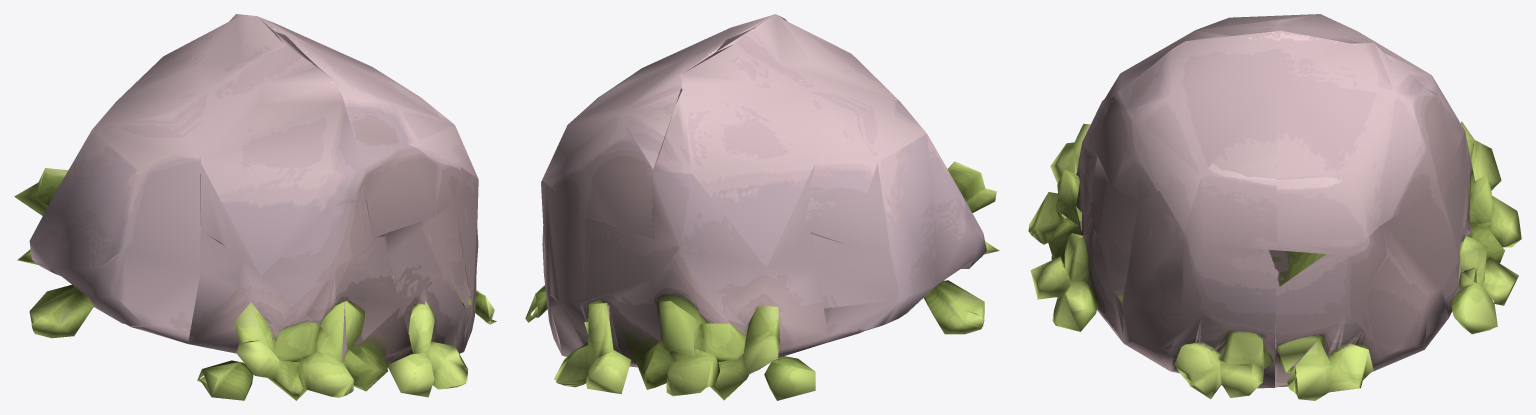
The model's file is M-6_06_rock_big.glb.
The picture shows the model from 3 angles, left to right: view 1: azimuth 30°, elevation 25°; view 2: azimuth 150°, elevation 25°; view 3: azimuth 270°, elevation 25°; orthographic projection. The views are drawn at different scales.
Visible parts, largest first — view 1: rock_big; view 2: rock_big; view 3: rock_big.
Boxes of the visible parts, box(x1,y1,x2,y2) form: rock_big: box(14, 14, 496, 400); rock_big: box(525, 14, 999, 400); rock_big: box(1028, 14, 1521, 400).
Size of the model in its own units: 3.45 by 2.29 by 3.53.
1 material, 1 textured.
